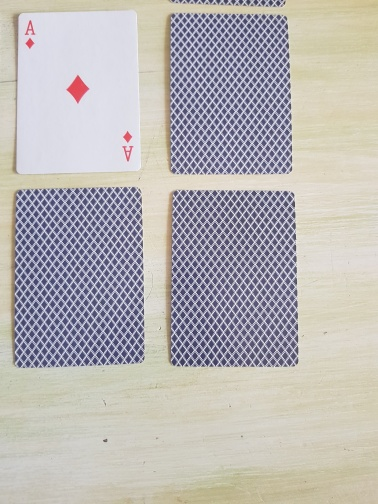ace: (15, 10, 142, 176)
